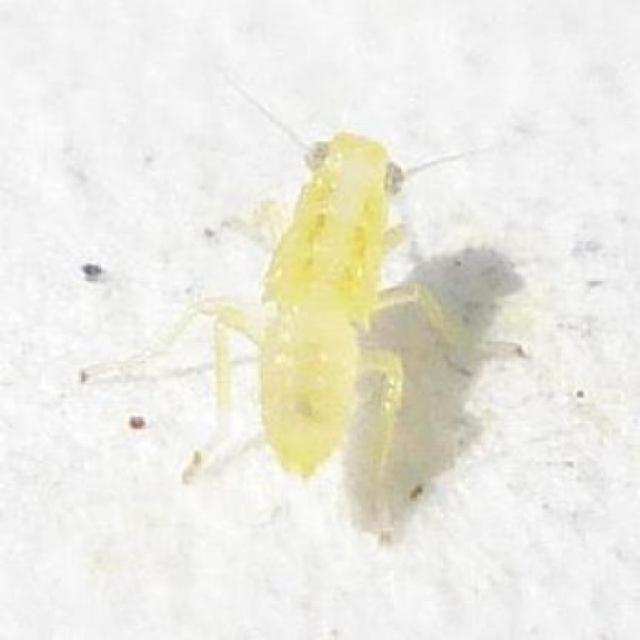green-leafhopper: (243, 120, 417, 469)
